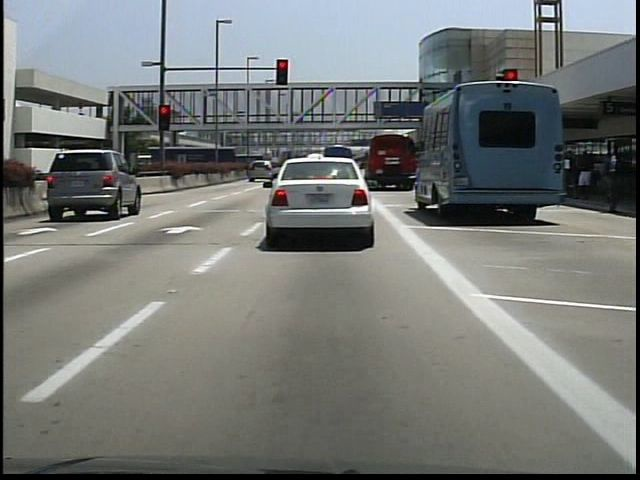person: (596, 145, 627, 213), (574, 149, 594, 201)
